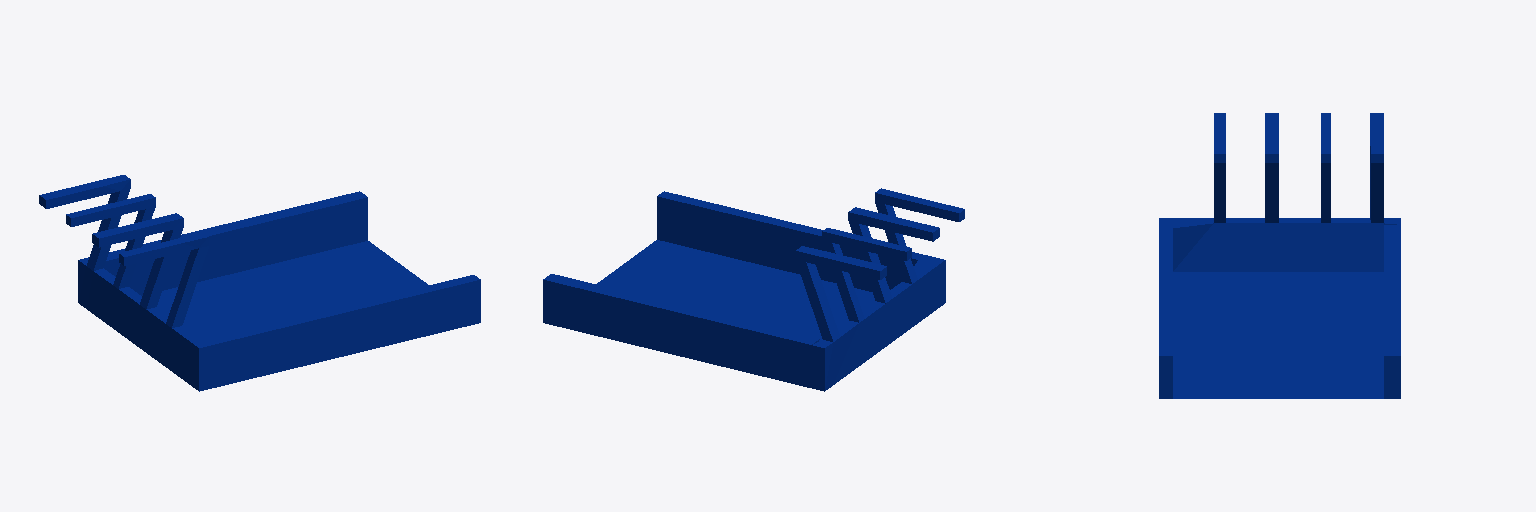
Rendered from bridge.obj.
3 views of the same model, side by side, from view 1: azimuth 30°, elevation 25°; view 2: azimuth 150°, elevation 25°; view 3: azimuth 270°, elevation 25° (orthographic).
Visible parts, largest first — view 1: Plane.006_Plane.012; view 2: Plane.006_Plane.012; view 3: Plane.006_Plane.012.
Part boxes in pixels (bbox=[...]): Plane.006_Plane.012: bbox=[39, 175, 480, 391]; Plane.006_Plane.012: bbox=[543, 188, 964, 391]; Plane.006_Plane.012: bbox=[1159, 113, 1400, 398].
Size of the model in its own units: 18.89 by 6.9 by 12.02.